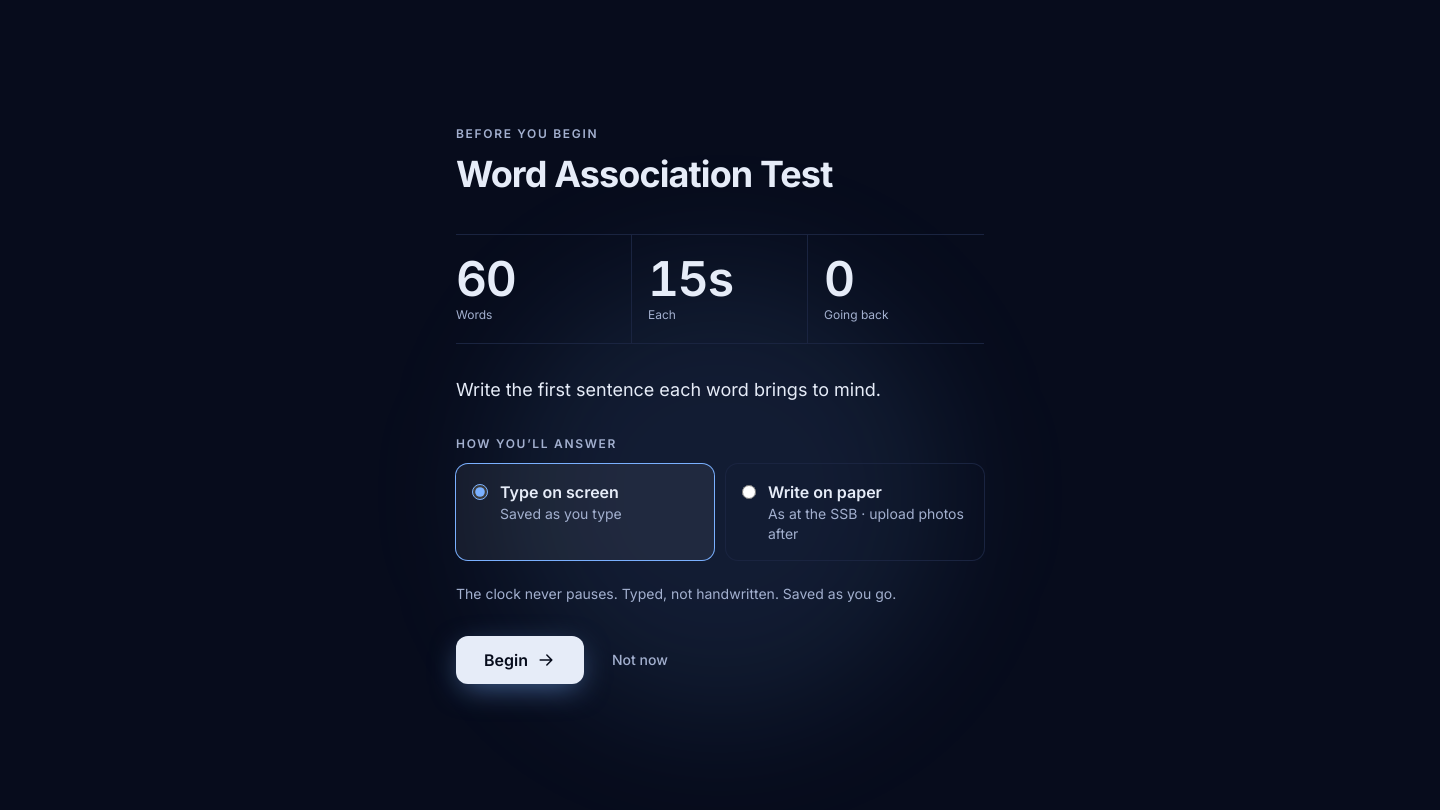
Test: forced sequence › counts down in whole seconds against the fixed timeline
Click the button "Begin".
click(520, 660)  # box [456, 636, 584, 684]
Wait 4000 ms
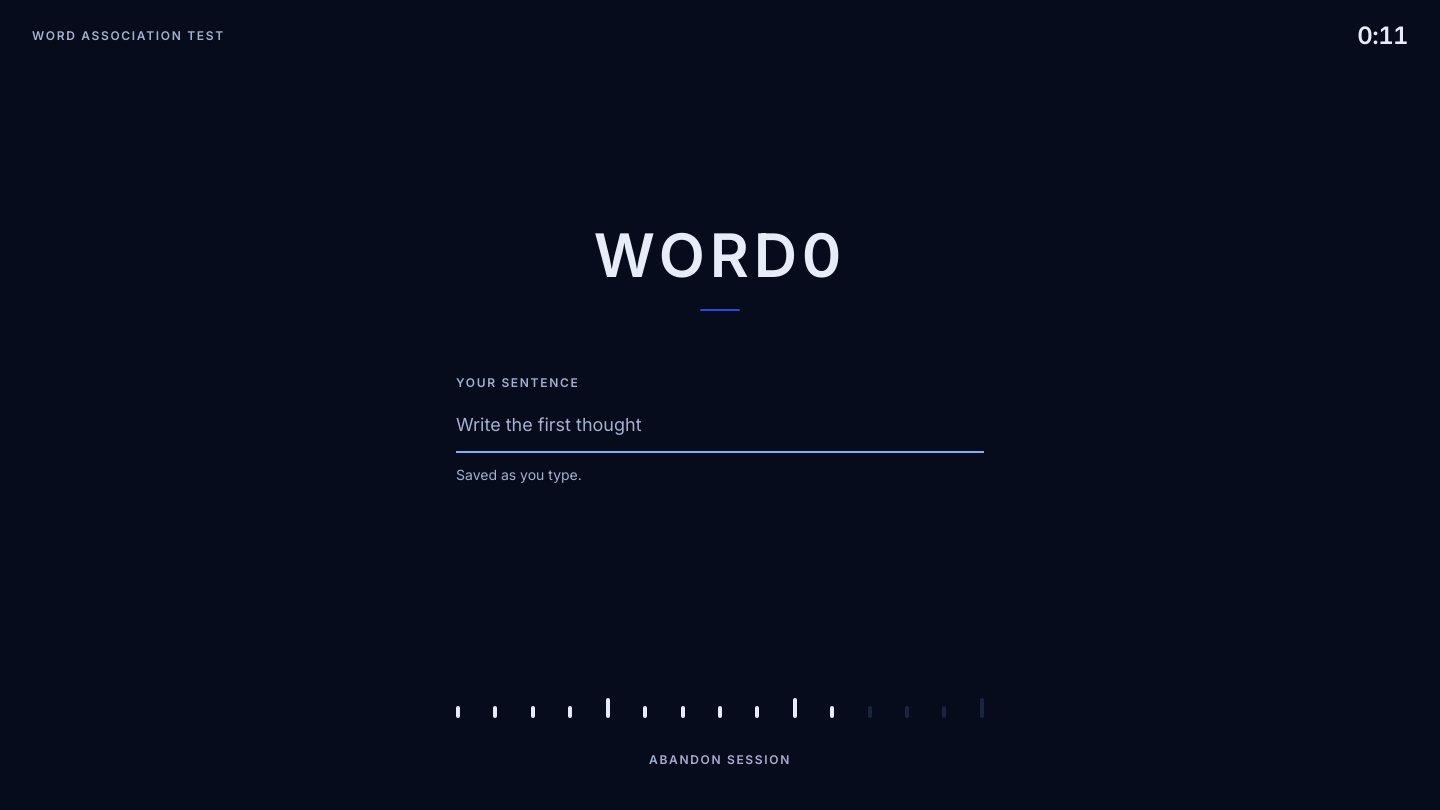
Check: the text "0:11" is shown, box [1357, 20, 1408, 52]
